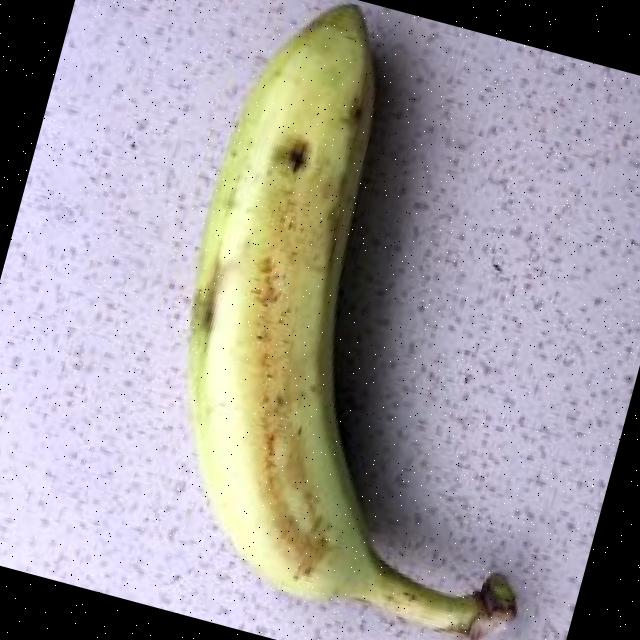banana: (188, 5, 520, 640)
